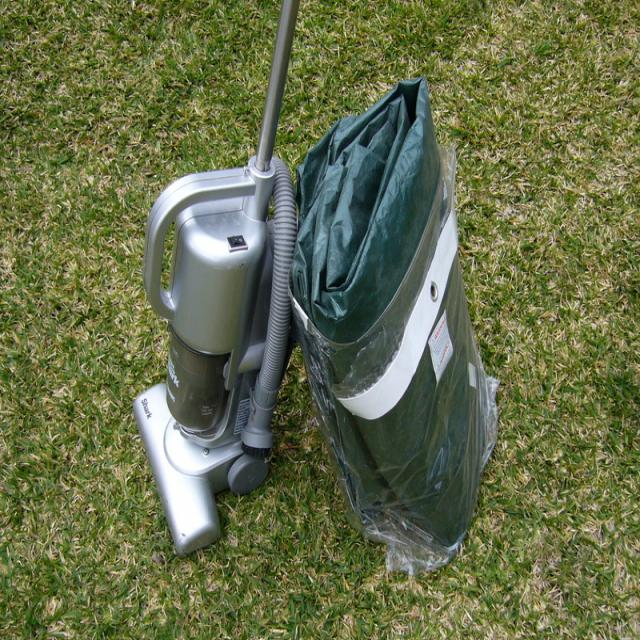vaccum- bag: (292, 79, 496, 573)
